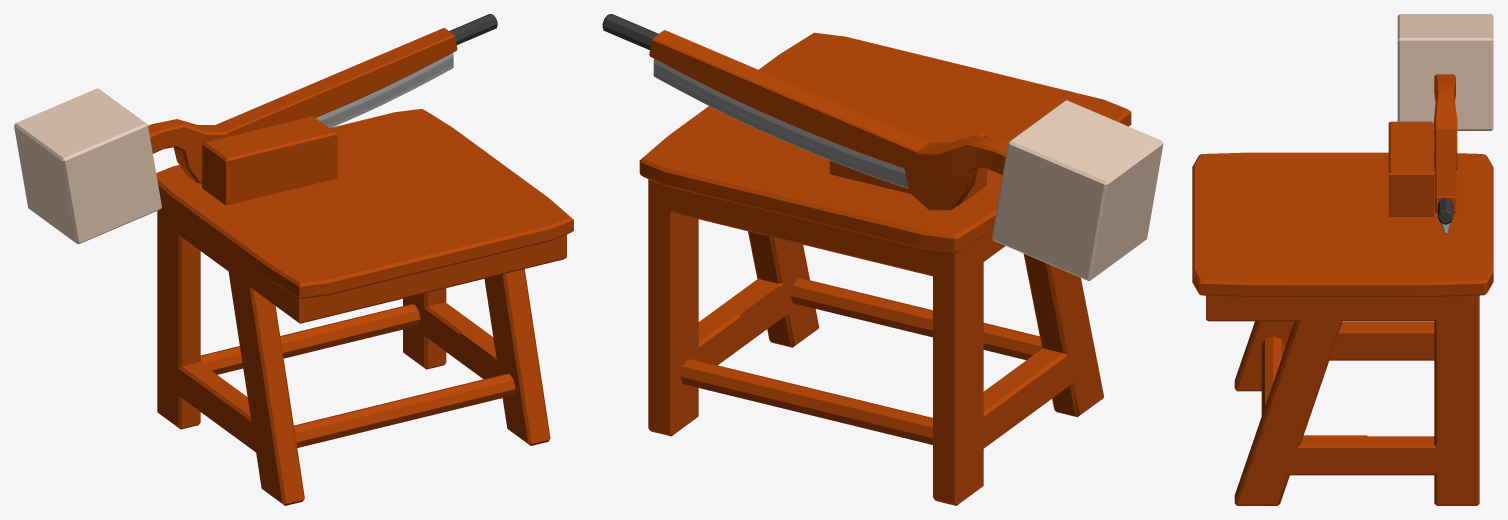
The model's file is MaterialCutter.fbx.
3 renders of one model, left to right at view 1: azimuth 30°, elevation 25°; view 2: azimuth 150°, elevation 25°; view 3: azimuth 270°, elevation 25°, orthographic. The views are drawn at different scales.
Parts seen in each view (by area): view 1: M_Cutter_Main, M_Cutter_Balancer, M_Cutter_Blade, M_Cutter_Leg_Sep1, M_Cutter_Leg_Sep, M_Cutter_Blade_Handle; view 2: M_Cutter_Main, M_Cutter_Balancer, M_Cutter_Blade, M_Cutter_Leg_Sep, M_Cutter_Leg_Sep1, M_Cutter_Blade_Handle; view 3: M_Cutter_Main, M_Cutter_Balancer, M_Cutter_Blade, M_Cutter_Leg_Sep1, M_Cutter_Blade_Handle.
Boxes of the visible parts, x1,y1,x2,y2 form: M_Cutter_Main: (156,109,573,505); M_Cutter_Balancer: (14,88,228,244); M_Cutter_Blade: (216,28,457,136); M_Cutter_Leg_Sep1: (294,374,515,447); M_Cutter_Leg_Sep: (200,304,420,374); M_Cutter_Blade_Handle: (449,14,497,44); M_Cutter_Main: (639,32,1131,505); M_Cutter_Balancer: (904,100,1163,280); M_Cutter_Blade: (649,30,929,188); M_Cutter_Leg_Sep: (680,359,932,444); M_Cutter_Leg_Sep1: (791,278,1042,360); M_Cutter_Blade_Handle: (602,14,658,49); M_Cutter_Main: (1192,121,1493,505); M_Cutter_Balancer: (1397,14,1493,169); M_Cutter_Blade: (1435,129,1456,233); M_Cutter_Leg_Sep1: (1261,336,1284,415); M_Cutter_Blade_Handle: (1437,197,1453,224).
Bounding box in the file's own units: 14.93 × 10.45 × 8.91.
